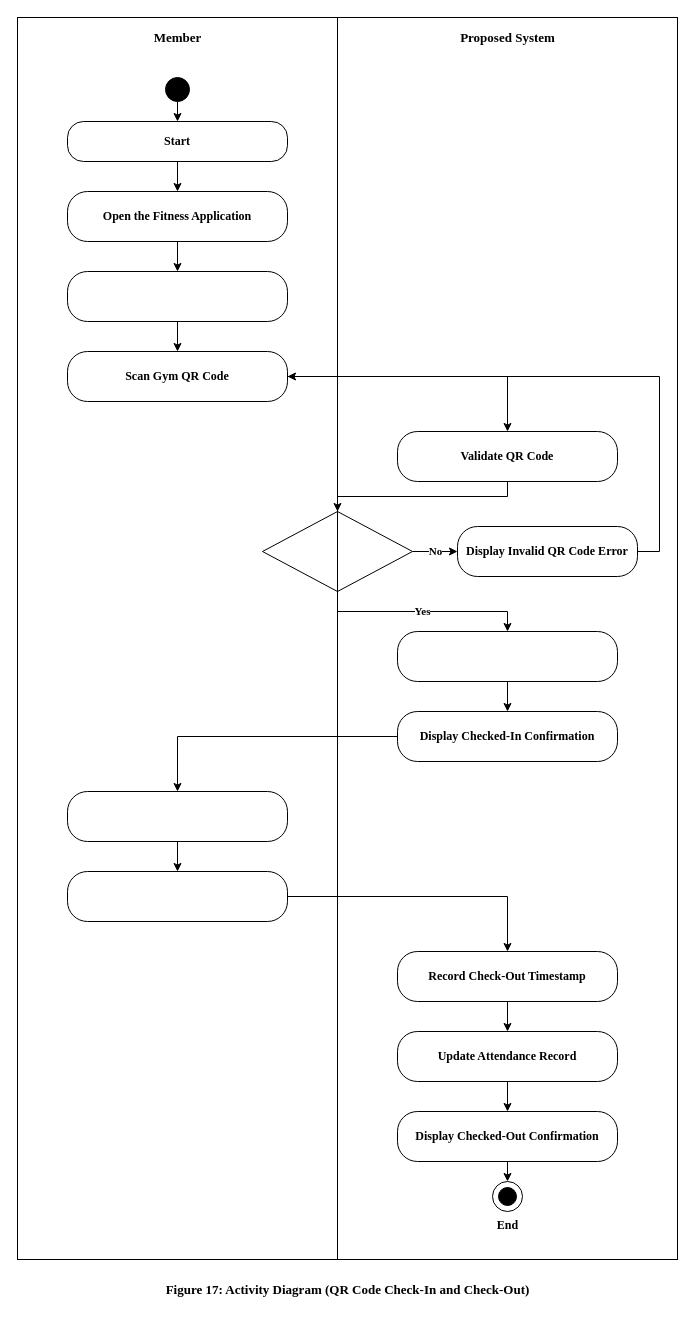
Image size: 695x1322. Some labels were removed from this diagram. Each missing label, with the box of its shape:
Perform Workout: (66, 790, 288, 842)
Record Check-In Timestamp: (396, 630, 618, 682)
Tap Check-In and Activate QR Scanner: (66, 270, 288, 322)
Tap Check-Out Button: (66, 870, 288, 922)
Valid Gym Location?: (262, 510, 412, 592)
